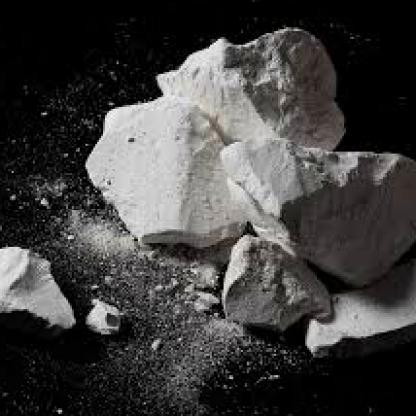Sedimentary_Chalk: (68, 84, 259, 268), (262, 128, 414, 282), (218, 235, 340, 329), (0, 237, 88, 333)
